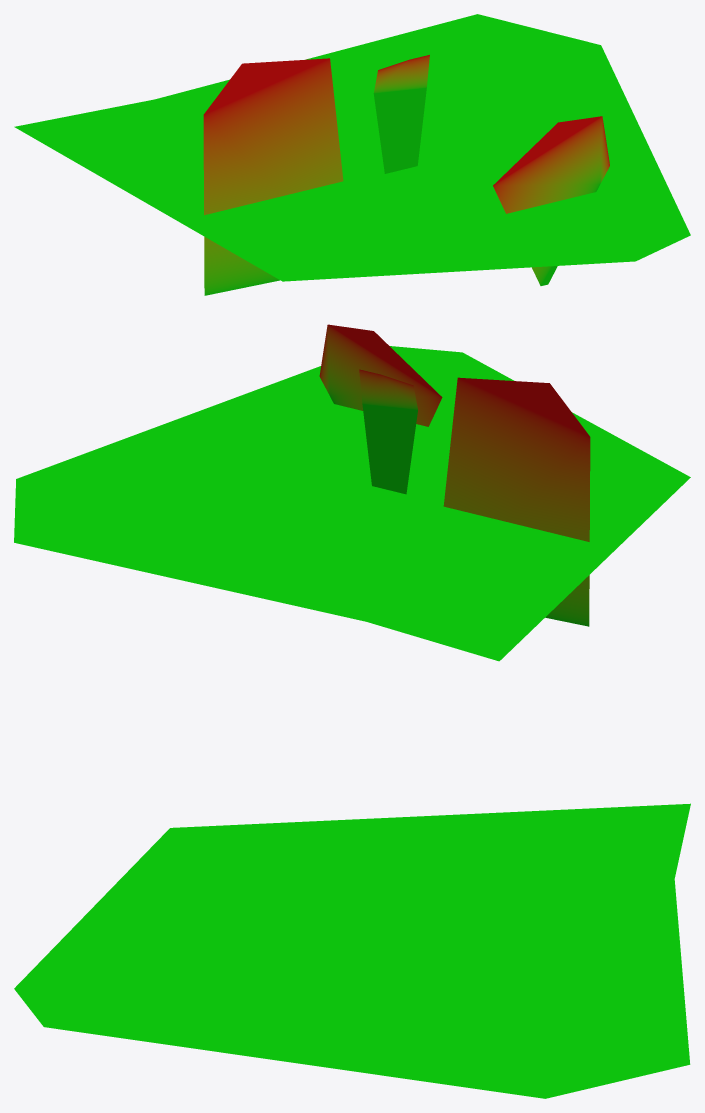
The model's file is Var6_LOD3.fbx.
The picture shows the model from 3 angles, top to bottom: view 1: azimuth 30°, elevation 25°; view 2: azimuth 150°, elevation 25°; view 3: azimuth 270°, elevation 25°; orthographic projection. The views are drawn at different scales.
Parts seen in each view (by area): view 1: _78e4_Var6_LOD3; view 2: _78e4_Var6_LOD3; view 3: _78e4_Var6_LOD3.
Boxes of the visible parts, <box> form: _78e4_Var6_LOD3: <box>14,14,690,295</box>; _78e4_Var6_LOD3: <box>14,324,690,661</box>; _78e4_Var6_LOD3: <box>14,803,690,1098</box>.
Size of the model in its own units: 156 by 65.17 by 151.
